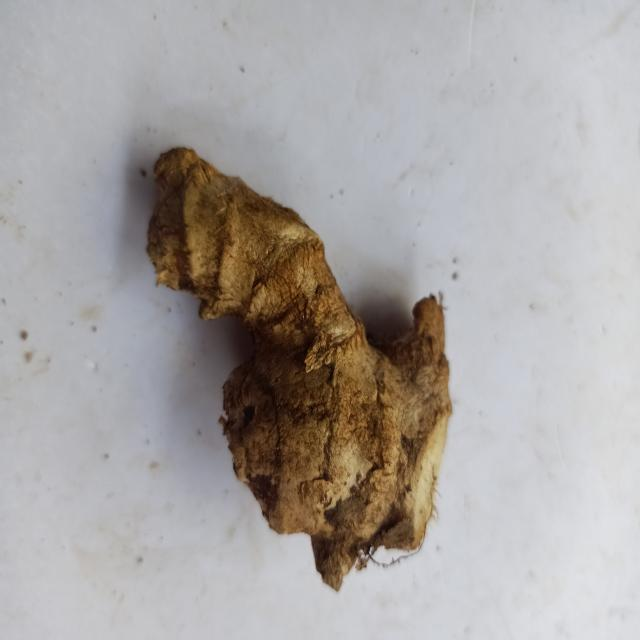Ginger: (146, 147, 452, 591)
